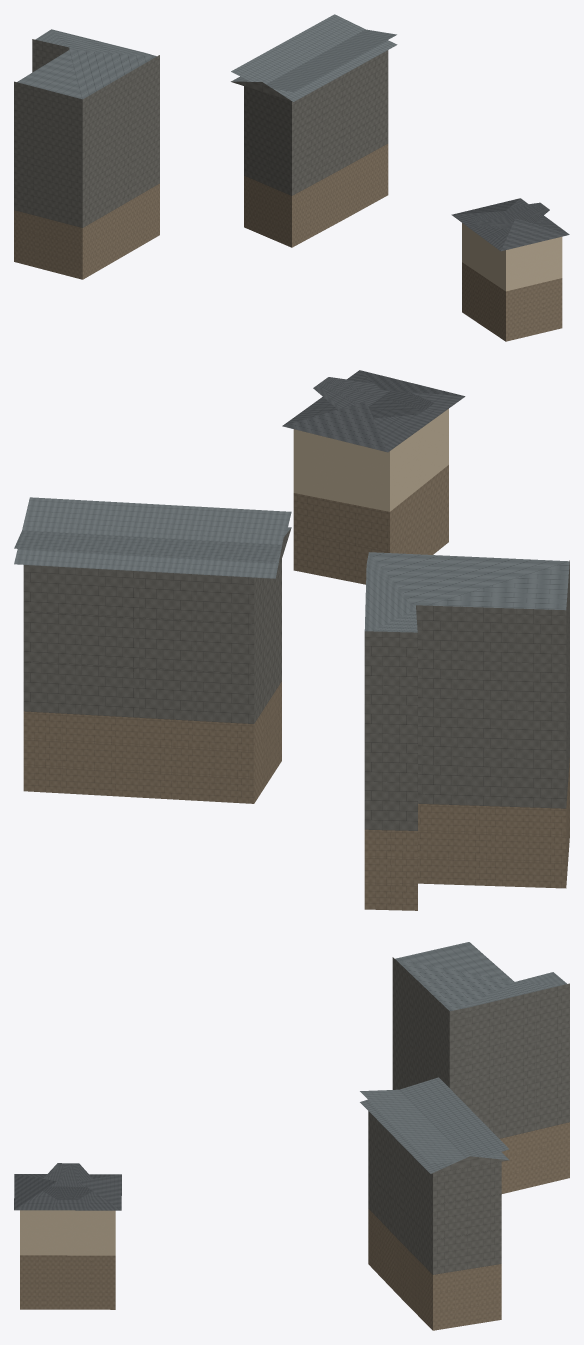
The model's file is bld_c9_17_439.gltf.
3 views of the same model, one above another, from view 1: azimuth 30°, elevation 25°; view 2: azimuth 150°, elevation 25°; view 3: azimuth 270°, elevation 25° (orthographic). The views are drawn at different scales.
Parts seen in each view (by area): view 1: bld_c9_17_439; view 2: bld_c9_17_439; view 3: bld_c9_17_439.
Part boxes in pixels (bbox=[...]): bld_c9_17_439: bbox=[14, 14, 569, 341]; bld_c9_17_439: bbox=[14, 370, 569, 910]; bld_c9_17_439: bbox=[14, 942, 569, 1330].
Size of the model in its own units: 37.72 by 18.58 by 46.03.
6 materials, 6 textured.
